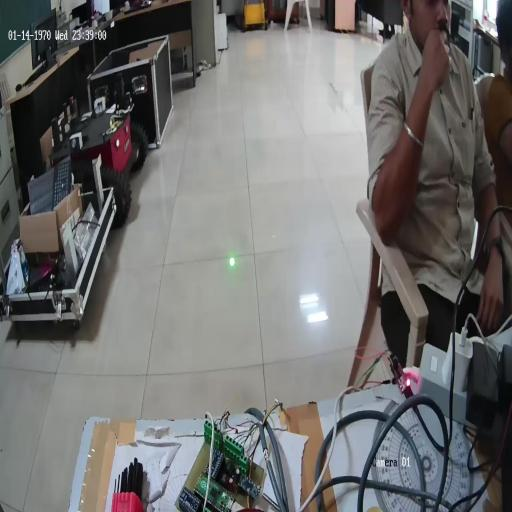laser: (228, 254, 236, 268)
